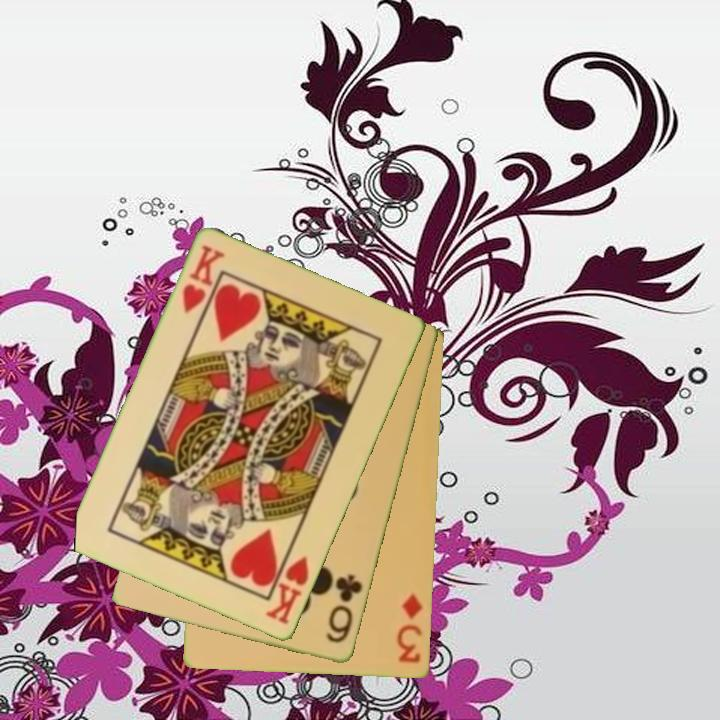3d: (394, 590, 426, 666)
6c: (323, 571, 366, 647)
Kh: (262, 543, 312, 628), (179, 242, 228, 317)
